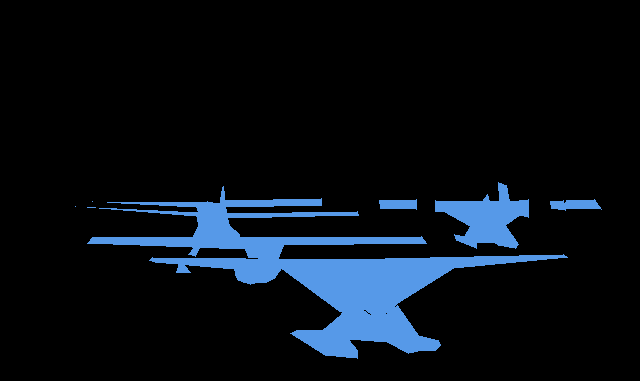Airplane: (149, 254, 567, 359), (75, 186, 358, 273), (379, 182, 601, 248), (87, 236, 427, 260), (92, 198, 322, 213)
